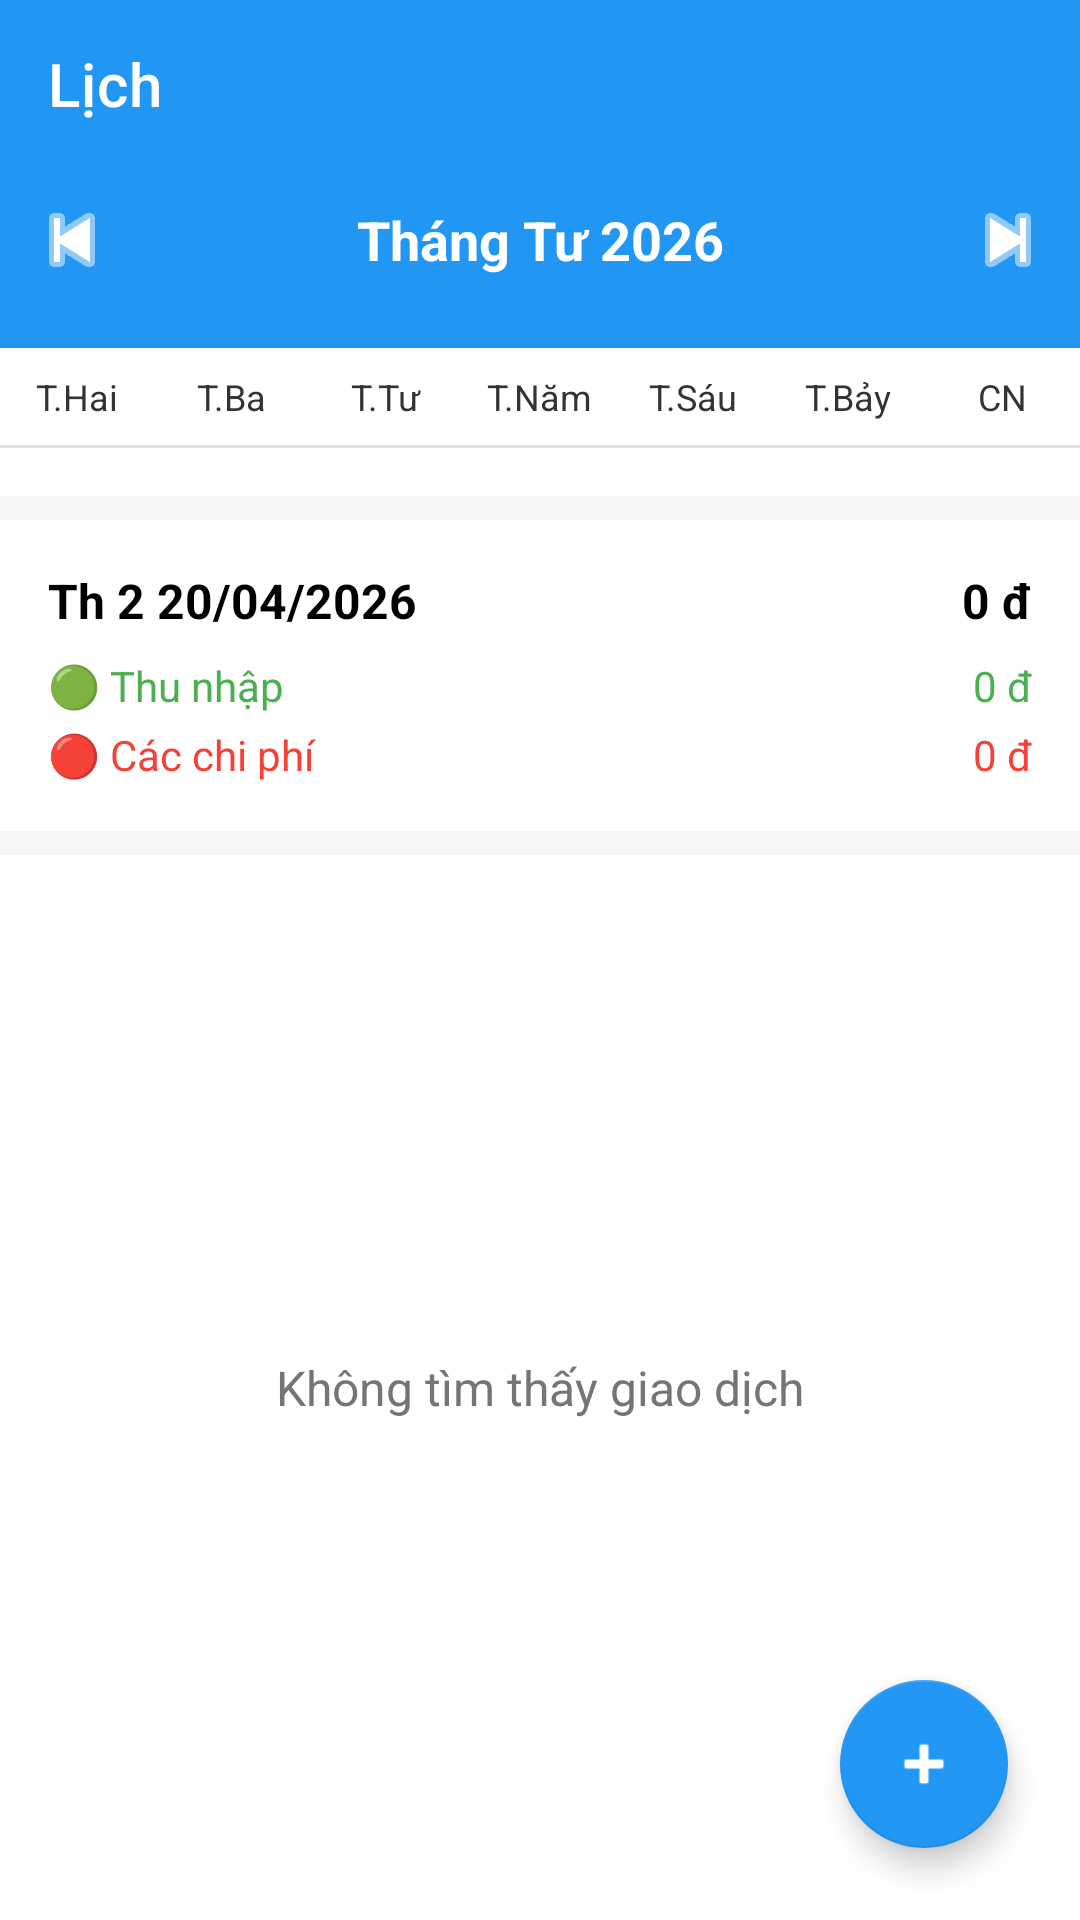

Screen size 1080w x 1920h. Icon name, then its box in pixels as [x1,y1,x2,y2]:
add: [840,1680,1008,1848]
next: [985,213,1031,267]
previous: [49,213,95,267]
